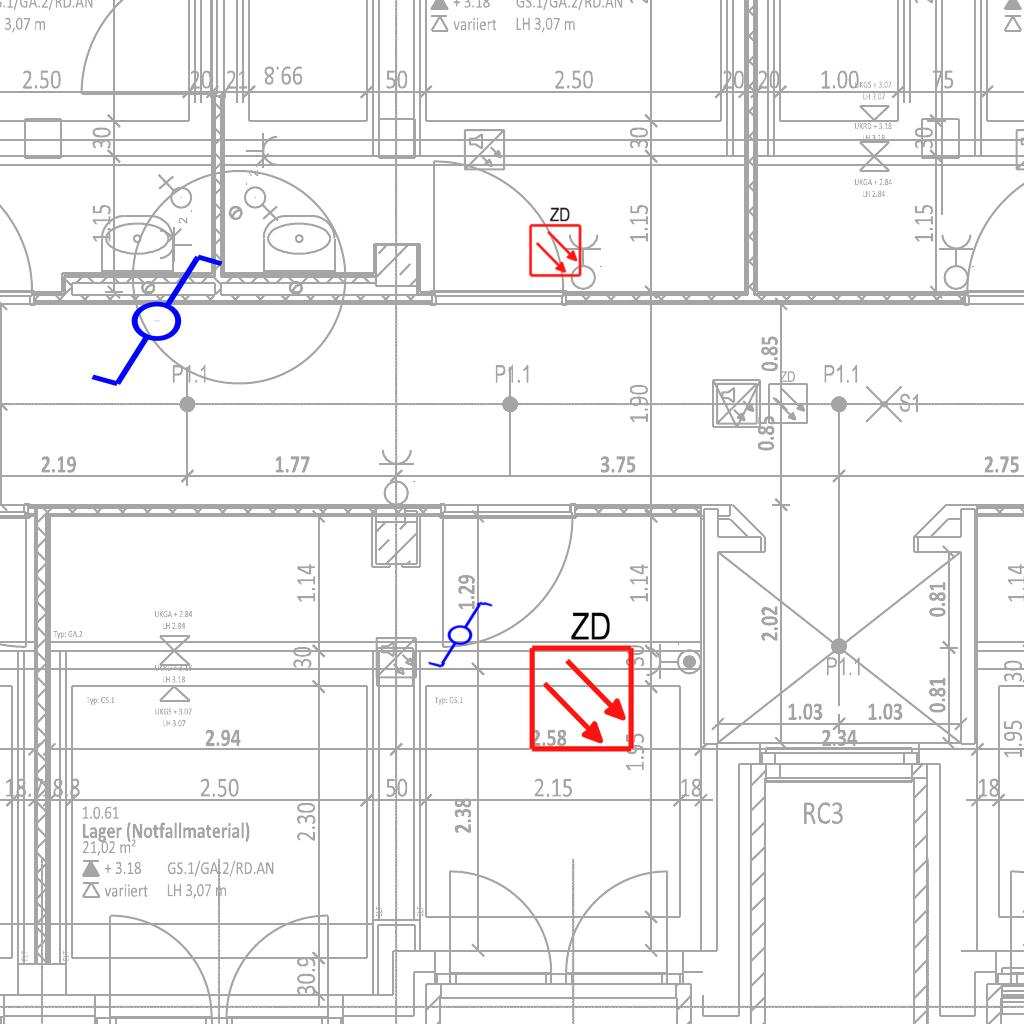Wechselschalter: (70, 247, 227, 391), (416, 597, 496, 671)
ZD_Melder_in_Zwischendecke_mit_Revisionsoeffnung_mind_40_x_40_cm: (523, 605, 637, 754), (526, 204, 583, 278)
